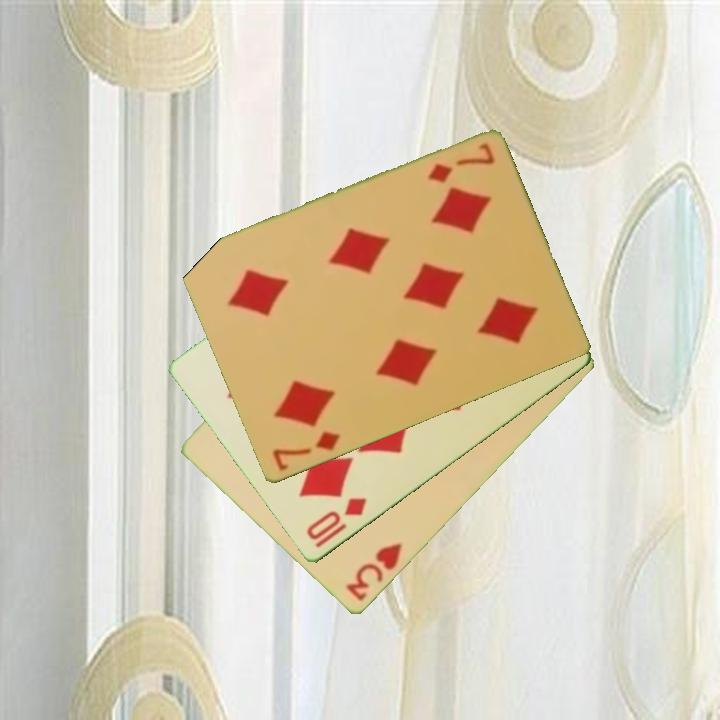10d: (302, 494, 370, 552)
3h: (342, 539, 405, 605)
7d: (268, 427, 344, 474), (423, 140, 498, 187)
